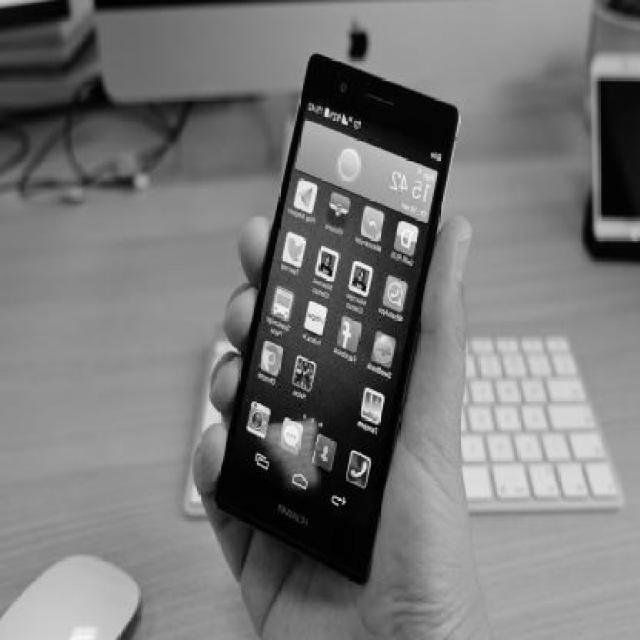fake: (206, 32, 465, 574), (589, 50, 640, 242)
